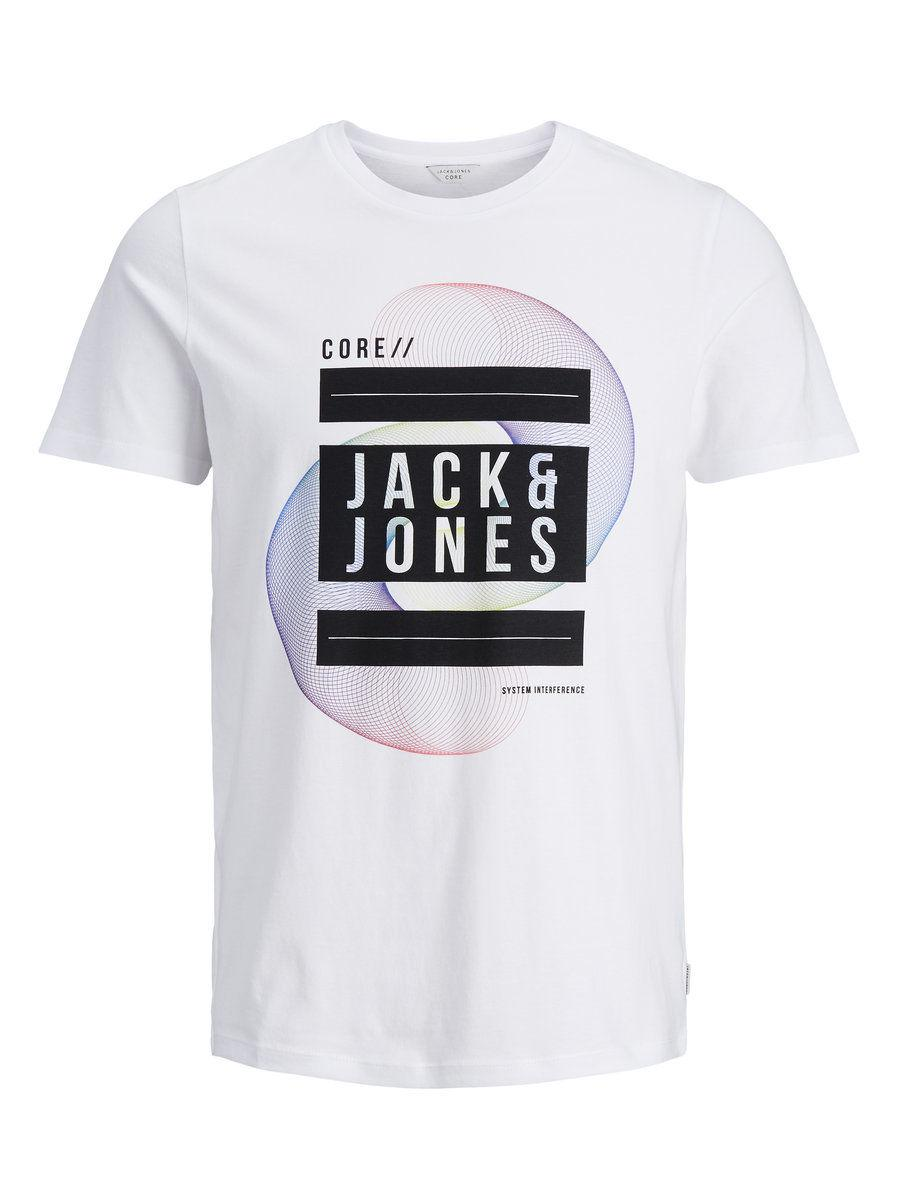teeshirt: (25, 113, 865, 1096)
